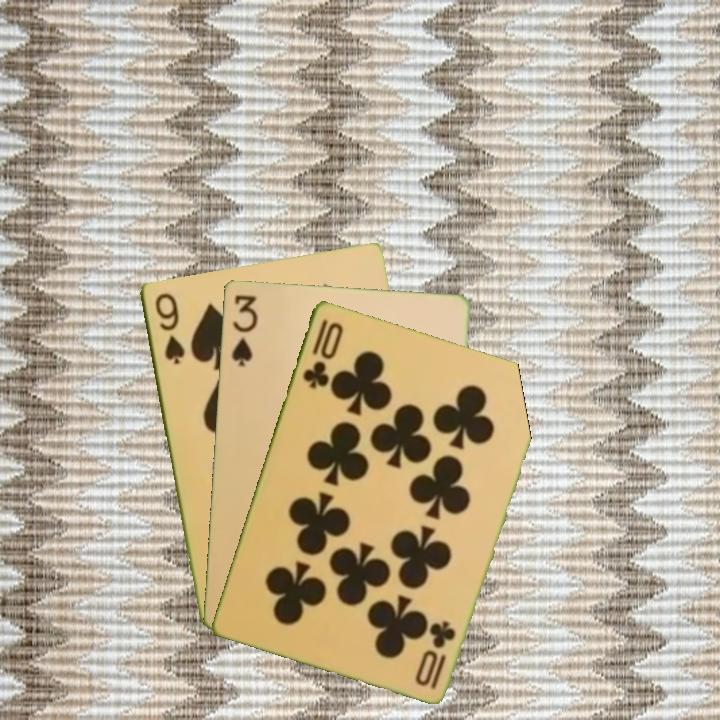10c: (299, 315, 346, 392), (412, 616, 458, 692)
3s: (227, 291, 260, 369)
9s: (151, 289, 188, 367)
